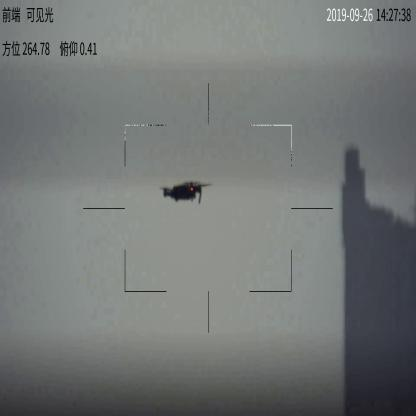uav: (152, 177, 204, 207)
